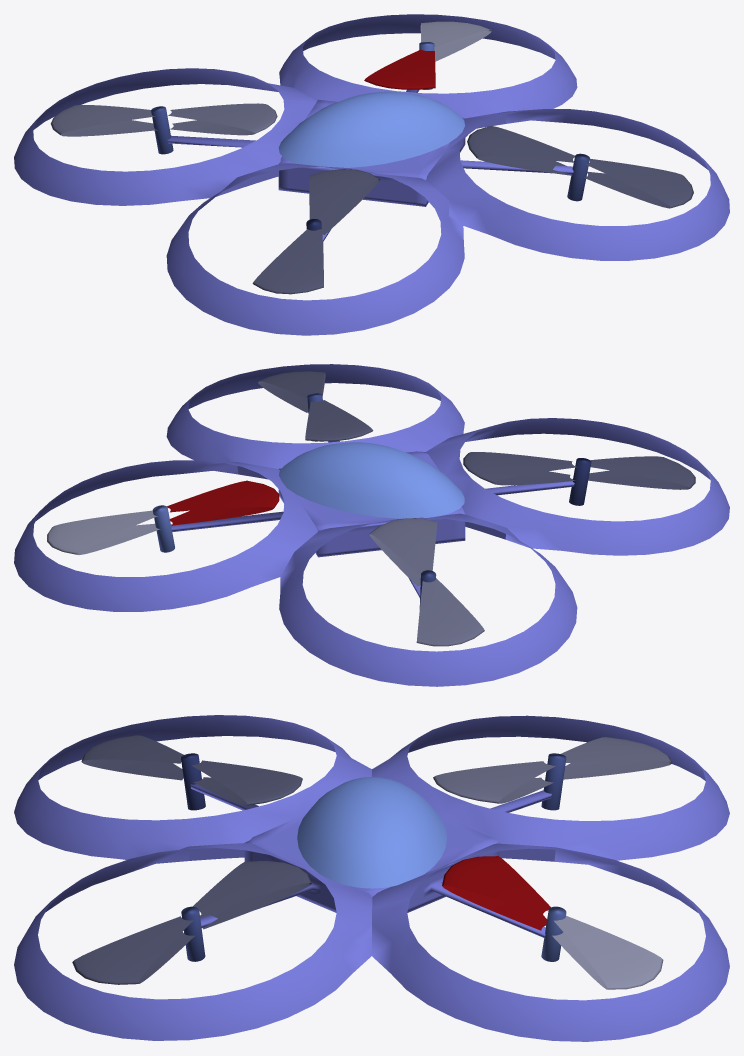
The model's file is quadBleu.fbx.
3 views of the same model, one above another, from view 1: azimuth 30°, elevation 25°; view 2: azimuth 150°, elevation 25°; view 3: azimuth 270°, elevation 25° (orthographic). The views are drawn at different scales.
Visible parts, largest first — view 1: Sphere.003, Sphere.009, Sphere.004, Sphere.002, Sphere, Sphere.001, Sphere.008, Sphere.007, Sphere.006, Sphere.005, Cylinder, Cylinder.002; view 2: Sphere.003, Sphere.009, Sphere.006, Sphere.005, Sphere.007, Sphere.008, Sphere.001, Sphere, Sphere.002, Sphere.004, Cylinder.003, Cylinder.001; view 3: Sphere.003, Sphere.009, Sphere.005, Sphere.004, Sphere.006, Sphere.002, Sphere.008, Sphere.007, Sphere.001, Sphere, Cylinder, Cylinder.003 (+2 smaller).
Boxes of the visible parts, box(x1,y1,x2,y2) form: Sphere.003: box(14, 14, 729, 335); Sphere.009: box(278, 91, 464, 168); Sphere.004: box(584, 158, 693, 208); Sphere.002: box(467, 126, 574, 175); Sphere: box(252, 229, 323, 294); Sphere.001: box(309, 169, 380, 234); Sphere.008: box(168, 103, 277, 135); Sphere.007: box(50, 105, 157, 136); Sphere.006: box(364, 49, 435, 89); Sphere.005: box(420, 21, 491, 61); Cylinder: box(151, 106, 173, 154); Cylinder.002: box(567, 153, 589, 201); Sphere.003: box(14, 364, 729, 686); Sphere.009: box(279, 442, 464, 518); Sphere.006: box(167, 480, 279, 525); Sphere.005: box(47, 510, 160, 554); Sphere.007: box(416, 578, 484, 646); Sphere.008: box(369, 518, 437, 586); Sphere.001: box(463, 452, 576, 485); Sphere: box(588, 456, 695, 489); Sphere.002: box(305, 400, 373, 441); Sphere.004: box(257, 371, 325, 412); Cylinder.003: box(569, 458, 591, 505); Cylinder.001: box(152, 505, 174, 552); Sphere.003: box(14, 715, 729, 1041); Sphere.009: box(297, 777, 446, 888); Sphere.005: box(552, 915, 663, 989); Sphere.004: box(72, 916, 194, 984); Sphere.006: box(442, 856, 550, 930); Sphere.002: box(193, 861, 311, 929); Sphere.008: box(433, 761, 555, 803); Sphere.007: box(560, 737, 672, 779); Sphere.001: box(191, 760, 302, 805); Sphere: box(81, 735, 183, 780); Cylinder: box(541, 753, 566, 810); Cylinder.003: box(181, 753, 205, 810).
Bounding box in the file's own units: 7.94 × 1.24 × 7.94.
